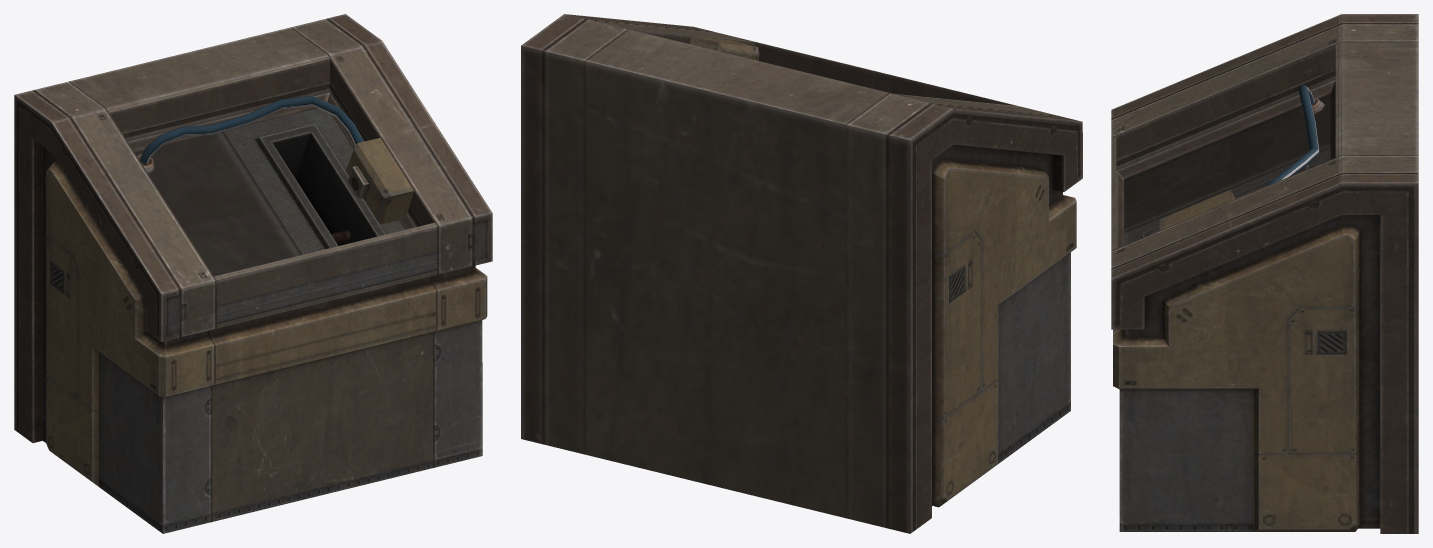
Rendered from 02_05_comm_room_lever_box.dae.
3 renders of one model, left to right at view 1: azimuth 30°, elevation 25°; view 2: azimuth 150°, elevation 25°; view 3: azimuth 270°, elevation 25°, orthographic. The views are drawn at different scales.
Visible parts, largest first — view 1: polySurface25, polySurface23; view 2: polySurface25; view 3: polySurface25, polySurface23.
Part boxes in pixels (bbox=[...]): polySurface25: bbox=[14, 14, 492, 533]; polySurface23: bbox=[137, 96, 404, 254]; polySurface25: bbox=[521, 14, 1082, 533]; polySurface25: bbox=[1111, 14, 1418, 533]; polySurface23: bbox=[1124, 84, 1330, 245].
Size of the model in its own units: 0.75 by 0.727 by 0.576.
